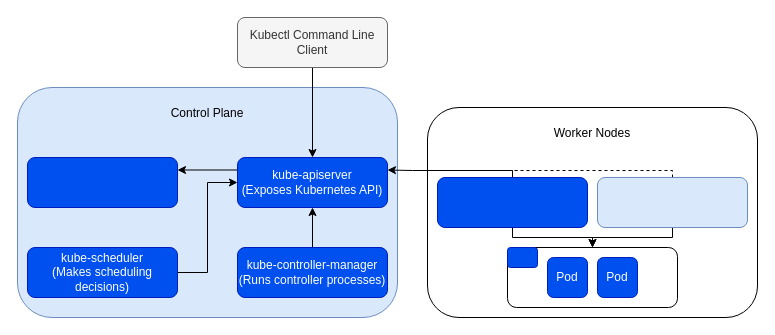
The diagram is 775 pixels wide and 335 high, and some of its shapes have lost their labels. The shapes that lost their labels are listed below. From the top down, each one's centre as x and y in pixels, then its label:
point (102, 182): etcd (Kubernetes' backing store for cluster data)
point (512, 202): kubelet (Ensures containers are running in a pod)
point (672, 202): kube-proxy (Maintains network rules on nodes)
point (522, 257): CRI
